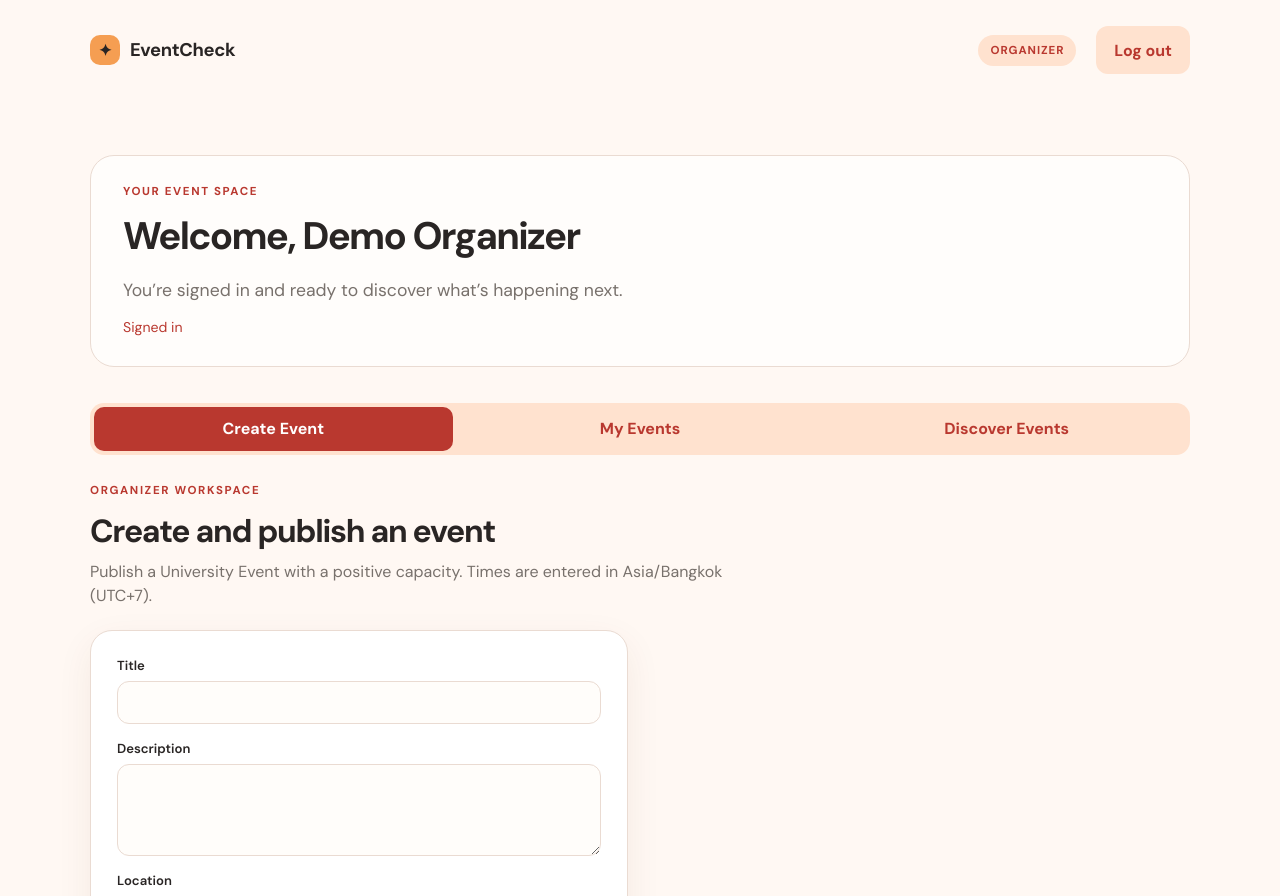
Scenario: F-04 Organizer registration management UI › TEST-F04-06/10: returns to login after the registration request reports an expired session
The image size is (1280, 896).
Click the tab "My Events": (640, 429) [461,407,819,451]
(page scrolled)
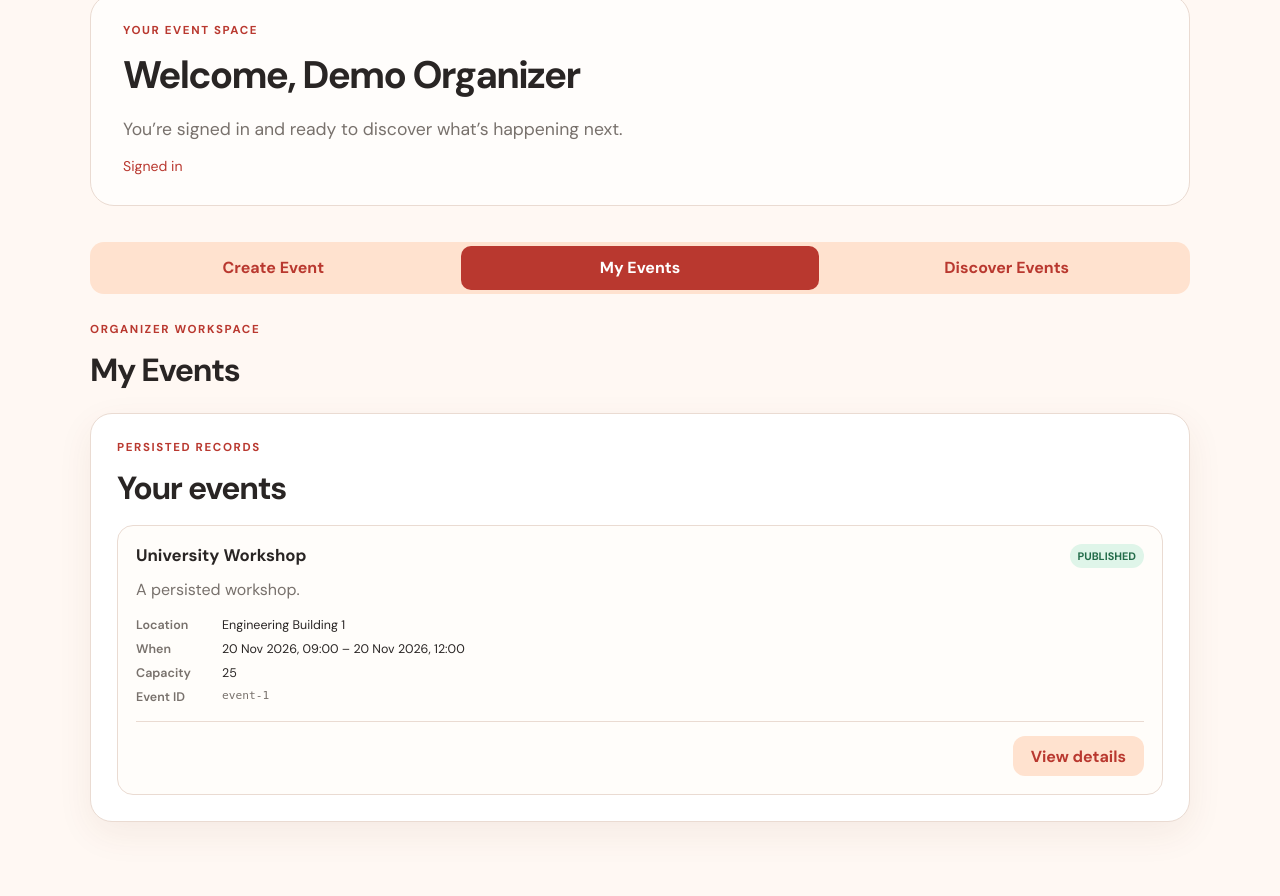
Click the button "View details": (1078, 756) [1013,736,1144,776]
(page scrolled)
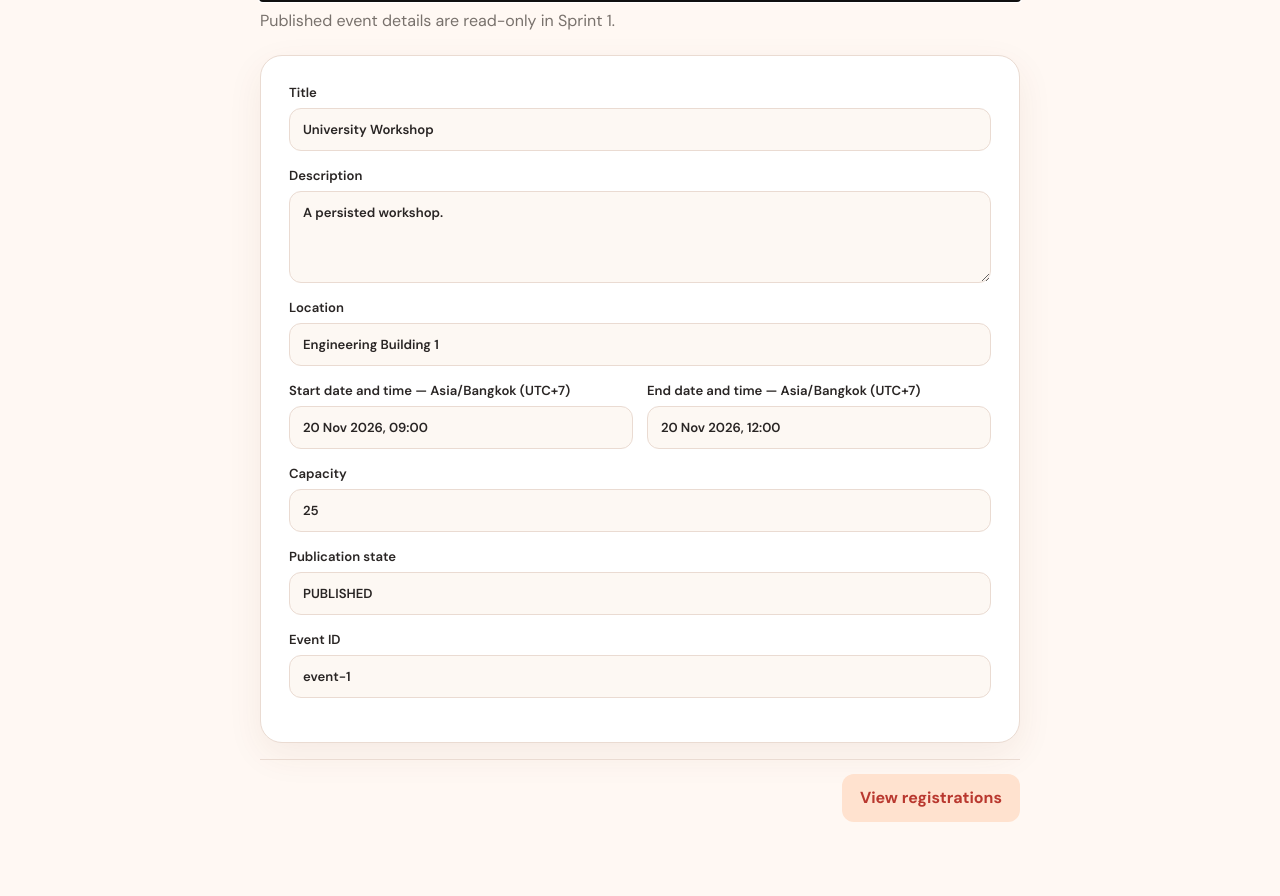
expect the form named "Event details" is shown: met, box [260,55,1020,743]
Click the button "View registrations": (931, 798) [842,774,1020,822]
(page scrolled)
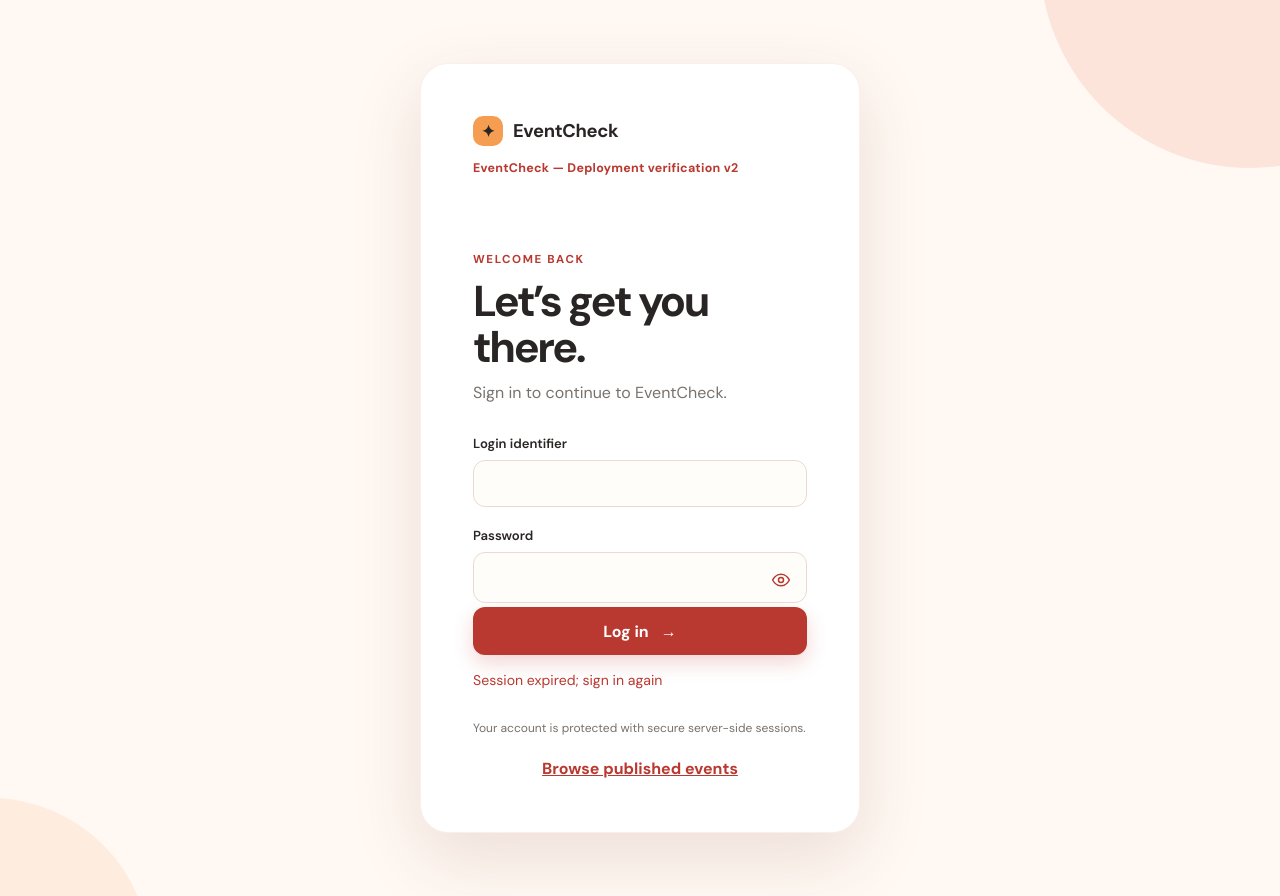
expect the form "Login" is shown: met, box [473,435,807,655]
